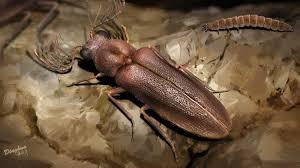Insects: (32, 12, 238, 165), (203, 10, 296, 38)
